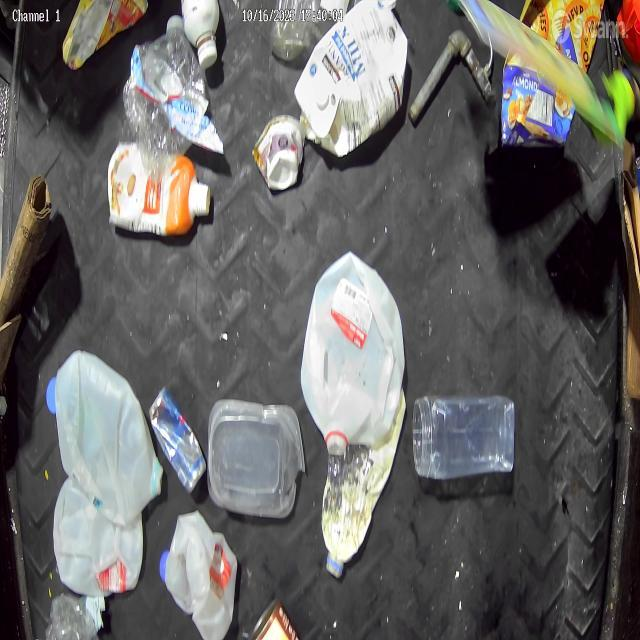can: (152, 381, 200, 482)
milk_jug: (40, 346, 162, 524), (306, 257, 400, 461), (51, 476, 138, 592), (161, 499, 234, 637)
plastic_bottle: (132, 21, 200, 158)
